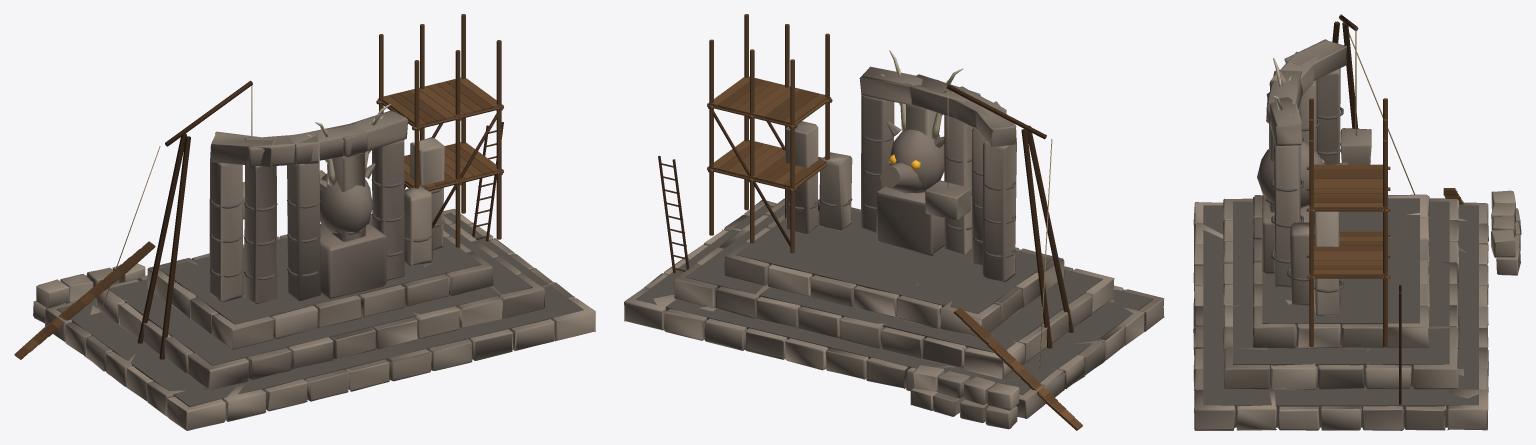
Rendered from feral_temple.glb.
3 views of the same model, side by side, from view 1: azimuth 30°, elevation 25°; view 2: azimuth 150°, elevation 25°; view 3: azimuth 270°, elevation 25° (orthographic). The views are drawn at different scales.
Parts seen in each view (by area): view 1: feral_temple; view 2: feral_temple; view 3: feral_temple.
Boxes of the visible parts, <box> form: feral_temple: <box>14,14,595,430</box>; feral_temple: <box>624,14,1164,430</box>; feral_temple: <box>1193,14,1521,430</box>.
Bounding box in the file's own units: 11.15 × 6.26 × 6.66.
